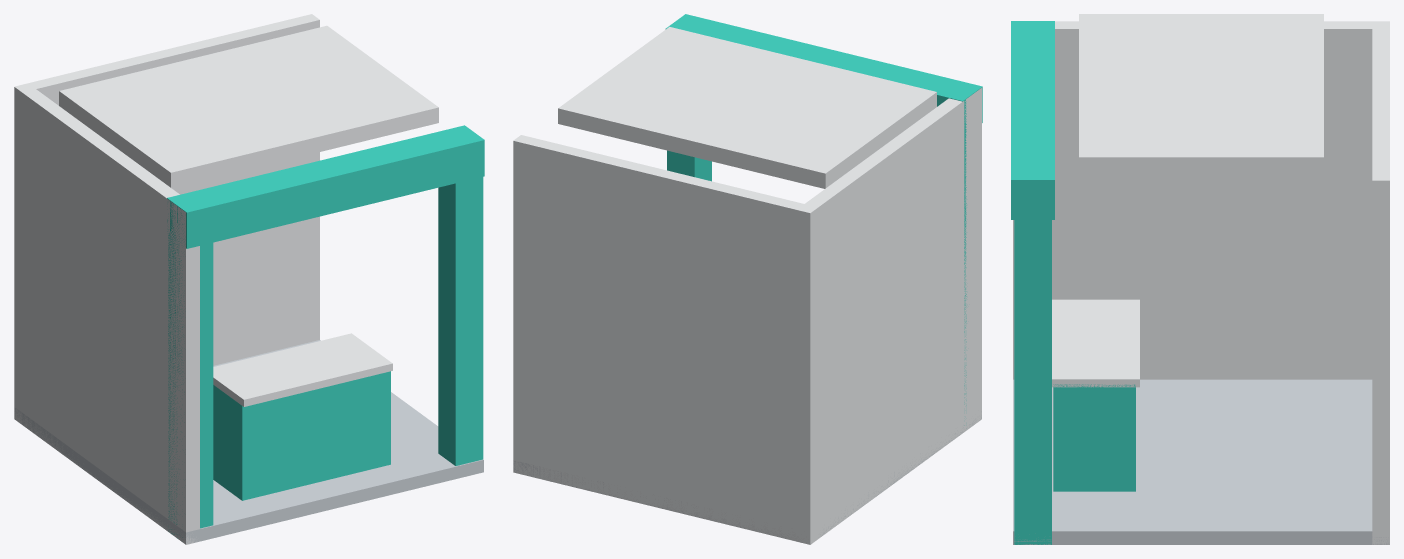
3 views of the same model, side by side, from view 1: azimuth 30°, elevation 25°; view 2: azimuth 150°, elevation 25°; view 3: azimuth 270°, elevation 25° (orthographic). The views are drawn at different scales.
Visible parts, largest first — view 1: Exhibition Booth Concept; view 2: Exhibition Booth Concept; view 3: Exhibition Booth Concept.
Boxes of the visible parts, left/top/right/bottom form: Exhibition Booth Concept: left=14, top=14, right=484, bottom=544; Exhibition Booth Concept: left=513, top=14, right=982, bottom=544; Exhibition Booth Concept: left=1011, top=14, right=1389, bottom=544.
Bounding box in the file's own units: 3 × 3.34 × 3.01.
